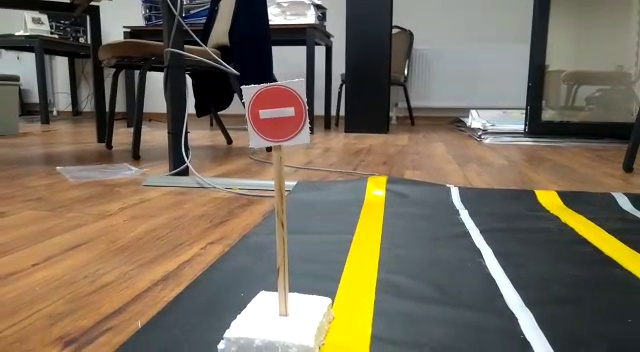girisi_olmayan_yol: (243, 85, 308, 142)
